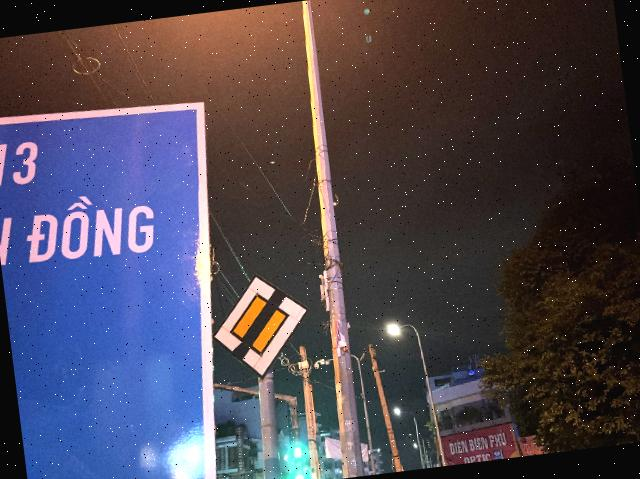het-duong-uu-tien: (203, 266, 320, 386)
